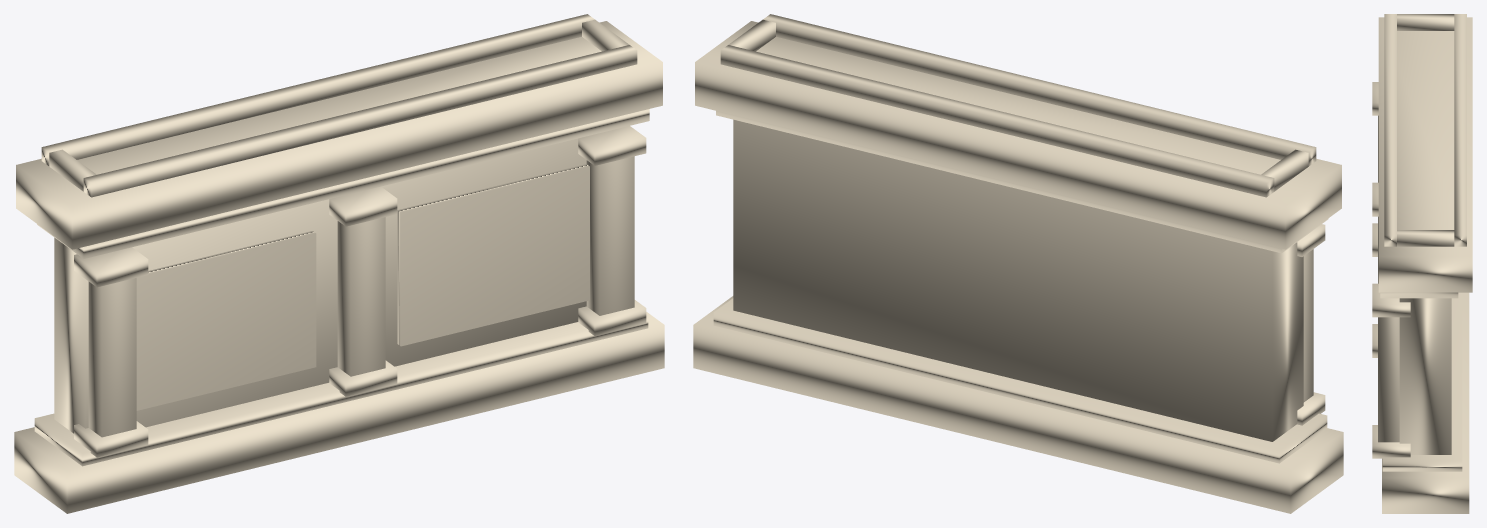
File: fixed-wall-2-bay.glb
3 renders of one model, left to right at view 1: azimuth 30°, elevation 25°; view 2: azimuth 150°, elevation 25°; view 3: azimuth 270°, elevation 25°, orthographic. The views are drawn at different scales.
Visible parts, largest first — view 1: Planter cap, Base plinth, Wall body, Right inset panel, Left inset panel, Planter front rim, Planter back rim, Lower plinth trim, Center column, Left column, Upper wall trim, Right column (+8 smaller); view 2: Wall body, Planter cap, Base plinth, Lower plinth trim, Planter back rim, Planter front rim, Upper wall trim, Left column, Planter left rim, Planter right rim; view 3: Planter cap, Wall body, Base plinth, Lower plinth trim, Planter front rim, Planter back rim, Right column, Planter left rim, Planter right rim, Right column capital, Right column foot, Upper wall trim (+4 smaller).
Boxes of the visible parts, x1,y1,x2,y2 form: Planter cap: [16, 21, 662, 249]; Base plinth: [14, 312, 664, 513]; Wall body: [54, 138, 586, 433]; Right inset panel: [397, 164, 589, 346]; Left inset panel: [136, 231, 316, 410]; Planter front rim: [83, 45, 637, 197]; Planter back rim: [41, 14, 594, 166]; Lower plinth trim: [34, 314, 648, 466]; Center column: [337, 217, 385, 376]; Left column: [88, 278, 136, 437]; Upper wall trim: [37, 109, 649, 258]; Right column: [586, 156, 634, 315]; Wall body: [733, 119, 1303, 441]; Planter cap: [695, 21, 1341, 249]; Base plinth: [693, 296, 1343, 513]; Lower plinth trim: [713, 298, 1327, 463]; Planter back rim: [720, 45, 1274, 197]; Planter front rim: [763, 14, 1316, 166]; Upper wall trim: [716, 111, 1328, 253]; Left column: [1303, 249, 1313, 402]; Planter left rim: [1261, 149, 1308, 191]; Planter right rim: [728, 19, 775, 51]; Planter cap: [1378, 17, 1472, 292]; Wall body: [1399, 298, 1451, 454]; Base plinth: [1382, 292, 1469, 513]; Lower plinth trim: [1382, 292, 1462, 471]; Planter front rim: [1384, 14, 1396, 246]; Planter back rim: [1454, 14, 1466, 246]; Right column: [1378, 317, 1399, 442]; Planter left rim: [1397, 14, 1454, 30]; Planter right rim: [1397, 230, 1454, 246]; Right column capital: [1372, 283, 1410, 317]; Right column foot: [1372, 425, 1410, 458]; Upper wall trim: [1380, 292, 1458, 298].
Size of the model in its own units: 7.2 by 3.72 by 1.26.
